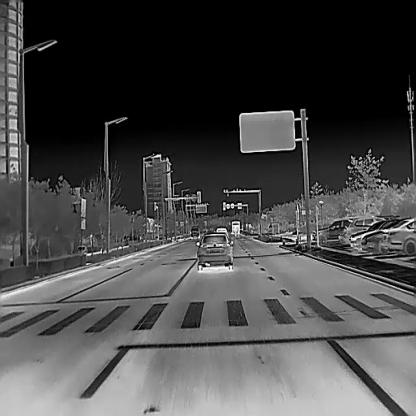bus: (231, 220, 239, 234)
car: (348, 220, 392, 254), (196, 230, 233, 270), (338, 215, 384, 244), (380, 217, 416, 254), (312, 217, 352, 245), (215, 228, 228, 238), (190, 225, 199, 238)
